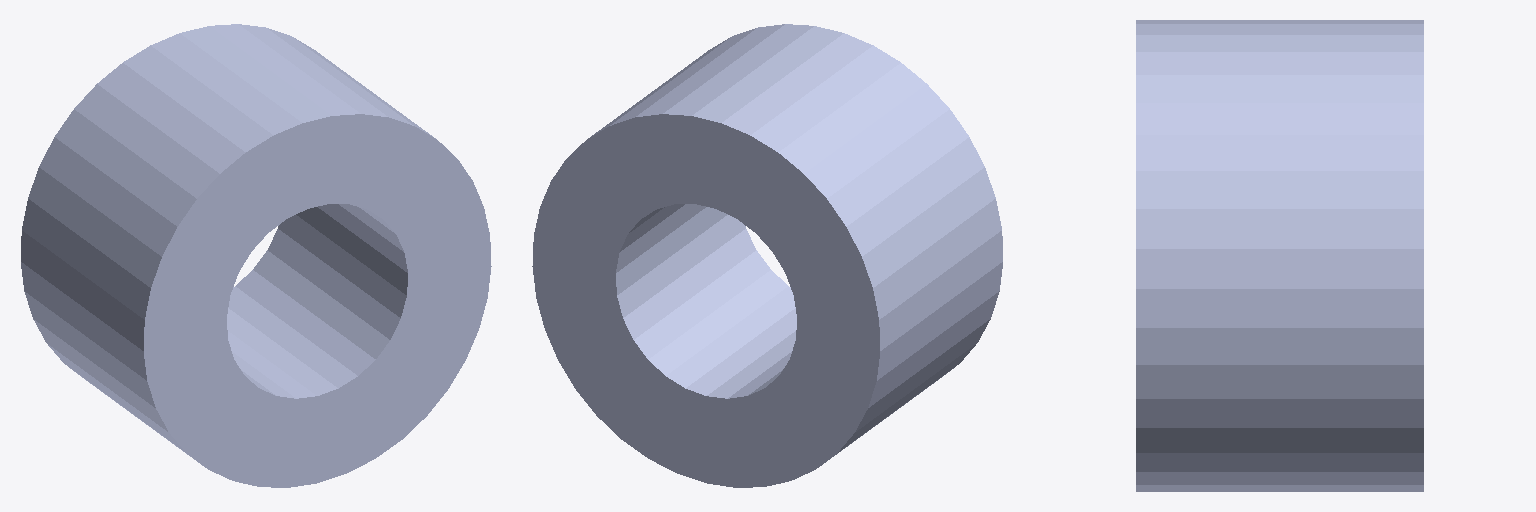
URDF robot description (urdf_visualization/urdf):
<?xml version="1.0" encoding="utf-8"?>
<!-- This URDF was automatically created by SolidWorks to URDF Exporter! Originally created by [author] ([email redacted]) 
     Commit Version: 1.6.0-4-g7f85cfe  Build Version: 1.6.7995.38578
     For more information, please see http://wiki.ros.org/sw_urdf_exporter -->
<robot
  name="urdf_visualization/urdf">
  <link
    name="base_link">

    <visual>
      <origin
        xyz="0 0 0"
        rpy="0 0 0" />
      <geometry>
        <mesh
          filename="package://urdf_visualization/urdf/meshes/base_link.STL" />
      </geometry>
      <material
        name="">
        <color
          rgba="0.792156862745098 0.819607843137255 0.933333333333333 1" />
      </material>
    </visual>
    <collision>
      <origin
        xyz="0 0 0"
        rpy="0 0 0" />
      <geometry>
        <mesh
          filename="package://urdf_visualization/urdf/meshes/base_link.STL" />
      </geometry>
    </collision>
  </link>
  <link
    name="turntable_link">
    <inertial>
      <origin
        xyz="-0.01225868218219 0.128577249577976 -0.00370544350042927"
        rpy="0 0 0" />
      <mass
        value="0.996366805002726" />
      <inertia
        ixx="0.00652370094208946"
        ixy="0.0010646616036529"
        ixz="0.000283127005277363"
        iyy="0.0050231810993567"
        iyz="6.82113719161566E-05"
        izz="0.00863345382595838" />
    </inertial>
    <visual>
      <origin
        xyz="0 0 0"
        rpy="0 0 0" />
      <geometry>
        <mesh
          filename="package://urdf_visualization/urdf/meshes/turntable_link.STL" />
      </geometry>
      <material
        name="">
        <color
          rgba="0.792156862745098 0.819607843137255 0.933333333333333 1" />
      </material>
    </visual>
    <collision>
      <origin
        xyz="0 0 0"
        rpy="0 0 0" />
      <geometry>
        <mesh
          filename="package://urdf_visualization/urdf/meshes/turntable_link.STL" />
      </geometry>
    </collision>
  </link>
  <joint
    name="turntable_joint"
    type="revolute">
    <origin
      xyz="0 0 0.035865"
      rpy="1.5708 0 -0.84509" />
    <parent
      link="base_link" />
    <child
      link="turntable_link" />
    <axis
      xyz="0 1 0" />
    <limit effort="50" velocity="1.5" lower="0" upper="1.57" />
  </joint>
  <link
    name="upperArm_link">
    <inertial>
      <origin
        xyz="0.0143973999054599 -3.20061625693202E-05 0.279348384794928"
        rpy="0 0 0" />
      <mass
        value="0.985210343915811" />
      <inertia
        ixx="0.0237982224738338"
        ixy="-8.8797773328906E-07"
        ixz="-0.00388532856230116"
        iyy="0.0293594722597601"
        iyz="-7.129443699684E-06"
        izz="0.00625034839320102" />
    </inertial>
    <visual>
      <origin
        xyz="0 0 0"
        rpy="0 0 0" />
      <geometry>
        <mesh
          filename="package://urdf_visualization/urdf/meshes/upperArm_link.STL" />
      </geometry>
      <material
        name="">
        <color
          rgba="0.792156862745098 0.819607843137255 0.933333333333333 1" />
      </material>
    </visual>
    <collision>
      <origin
        xyz="0 0 0"
        rpy="0 0 0" />
      <geometry>
        <mesh
          filename="package://urdf_visualization/urdf/meshes/upperArm_link.STL" />
      </geometry>
    </collision>
  </link>
  <joint
    name="shoulder_joint"
    type="revolute">
    <origin
      xyz="0 0.18098 0.043071"
      rpy="-1.5572 0 0" />
    <parent
      link="turntable_link" />
    <child
      link="upperArm_link" />
    <axis
      xyz="-1 0 0" />
    <limit effort="50" velocity="1.5" lower="0" upper="1.57" />
  </joint>
  <link
    name="forearm_link">
    <inertial>
      <origin
        xyz="-4.1286418728248E-16 0.0550154986611603 0.120152803034247"
        rpy="0 0 0" />
      <mass
        value="0.51779610173045" />
      <inertia
        ixx="0.00404850874710764"
        ixy="-4.33680868994202E-19"
        ixz="2.87313575708659E-18"
        iyy="0.00375548329392275"
        iyz="-0.000377385363706531"
        izz="0.000788327838226511" />
    </inertial>
    <visual>
      <origin
        xyz="0 0 0"
        rpy="0 0 0" />
      <geometry>
        <mesh
          filename="package://urdf_visualization/urdf/meshes/forearm_link.STL" />
      </geometry>
      <material
        name="">
        <color
          rgba="0.792156862745098 0.819607843137255 0.933333333333333 1" />
      </material>
    </visual>
    <collision>
      <origin
        xyz="0 0 0"
        rpy="0 0 0" />
      <geometry>
        <mesh
          filename="package://urdf_visualization/urdf/meshes/forearm_link.STL" />
      </geometry>
    </collision>
  </link>
  <joint
    name="elbowPitch_joint"
    type="revolute">
    <origin
      xyz="0 0 0.46634"
      rpy="2.7009 0 0" />
    <parent
      link="upperArm_link" />
    <child
      link="forearm_link" />
    <axis
      xyz="-1 0 0" />
    <limit effort="50" velocity="1.5" lower="0" upper="1.57" />
  </joint>
  <link
    name="wrist_link">
    <inertial>
      <origin
        xyz="-2.77555756156289E-17 5.55111512312578E-17 0.096820252622317"
        rpy="0 0 0" />
      <mass
        value="0.301763082175336" />
      <inertia
        ixx="0.00210344289702837"
        ixy="1.30104260698261E-18"
        ixz="5.14996031930615E-19"
        iyy="0.00305016250706558"
        iyz="-1.15196480826585E-18"
        izz="0.00107609106501786" />
    </inertial>
    <visual>
      <origin
        xyz="0 0 0"
        rpy="0 0 0" />
      <geometry>
        <mesh
          filename="package://urdf_visualization/urdf/meshes/wrist_link.STL" />
      </geometry>
      <material
        name="">
        <color
          rgba="0.792156862745098 0.819607843137255 0.933333333333333 1" />
      </material>
    </visual>
    <collision>
      <origin
        xyz="0 0 0"
        rpy="0 0 0" />
      <geometry>
        <mesh
          filename="package://urdf_visualization/urdf/meshes/wrist_link.STL" />
      </geometry>
    </collision>
  </link>
  <joint
    name="elbowRoll_joint"
    type="revolute">
    <origin
      xyz="0 0.04445 0.23038"
      rpy="0 0 0" />
    <parent
      link="forearm_link" />
    <child
      link="wrist_link" />
    <axis
      xyz="0 0 1" />
    <limit effort="50" velocity="1.5" lower="0" upper="1.57" />
  </joint>
  <link
    name="carpus_link">
    <inertial>
      <origin
        xyz="5.55111512312578E-17 5.55111512312578E-17 0"
        rpy="0 0 0" />
      <mass
        value="0.447707117943177" />
      <inertia
        ixx="0.000367702266904795"
        ixy="7.04731412115578E-19"
        ixz="1.62630325872826E-19"
        iyy="0.000843427086265753"
        iyz="0"
        izz="0.000844746123560661" />
    </inertial>
    <visual>
      <origin
        xyz="0 0 0"
        rpy="0 0 0" />
      <geometry>
        <mesh
          filename="package://urdf_visualization/urdf/meshes/carpus_link.STL" />
      </geometry>
      <material
        name="">
        <color
          rgba="0.792156862745098 0.819607843137255 0.933333333333333 1" />
      </material>
    </visual>
    <collision>
      <origin
        xyz="0 0 0"
        rpy="0 0 0" />
      <geometry>
        <mesh
          filename="package://urdf_visualization/urdf/meshes/carpus_link.STL" />
      </geometry>
    </collision>
  </link>
  <joint
    name="wristPitch_joint"
    type="revolute">
    <origin
      xyz="0 0 0.23528"
      rpy="0 0 0" />
    <parent
      link="wrist_link" />
    <child
      link="carpus_link" />
    <axis
      xyz="-1 0 0" />
    <limit effort="50" velocity="1.5" lower="0" upper="1.57" />
  </joint>
  <link
    name="endEffector_link">
    <inertial>
      <origin
        xyz="-0.000725623905114631 -0.000893578002320872 0.0499824104113341"
        rpy="0 0 0" />
      <mass
        value="0.399994299548626" />
      <inertia
        ixx="0.00169604127916281"
        ixy="-3.07411212276679E-06"
        ixz="2.57918978917245E-05"
        iyy="0.00173351996343527"
        iyz="5.0605971705242E-05"
        izz="0.000256533582960489" />
    </inertial>
    <visual>
      <origin
        xyz="0 0 0"
        rpy="0 0 0" />
      <geometry>
        <mesh
          filename="package://urdf_visualization/urdf/meshes/endEffector_link.STL" />
      </geometry>
      <material
        name="">
        <color
          rgba="0.792156862745098 0.819607843137255 0.933333333333333 1" />
      </material>
    </visual>
    <collision>
      <origin
        xyz="0 0 0"
        rpy="0 0 0" />
      <geometry>
        <mesh
          filename="package://urdf_visualization/urdf/meshes/endEffector_link.STL" />
      </geometry>
    </collision>
  </link>
  <joint
    name="wristRoll_joint"
    type="revolute">
    <origin
      xyz="0 0 0"
      rpy="0 0 0" />
    <parent
      link="carpus_link" />
    <child
      link="endEffector_link" />
    <axis
      xyz="0 0 1" />
    <limit effort="50" velocity="1.5" lower="0" upper="1.57" />
  </joint>
</robot>

--- What the picture shows (computed from the rendered views, not written in the file) ---
Views: 3 orthographic renders of the robot side by side, from view 1: azimuth 30°, elevation 25°; view 2: azimuth 150°, elevation 25°; view 3: azimuth 270°, elevation 25°.
Robot: urdf_visualization/urdf — 7 links, 6 joints (6 revolute); root link base_link; default pose: all joints at 0.
Visible links, largest first — view 1: base_link; view 2: base_link; view 3: base_link.
Link boxes in pixels (x1,y1,x2,y2): base_link: (21, 24, 491, 487); base_link: (532, 24, 1002, 487); base_link: (1136, 20, 1423, 491).
Bounding box of the posed robot: 0.1149 × 0.0704 × 0.1148 m (x, y, z).
1 mesh visuals loaded from 7 distinct referenced files (1 binary STL); not drawn: 6 (reference not matched to a file when rendering).